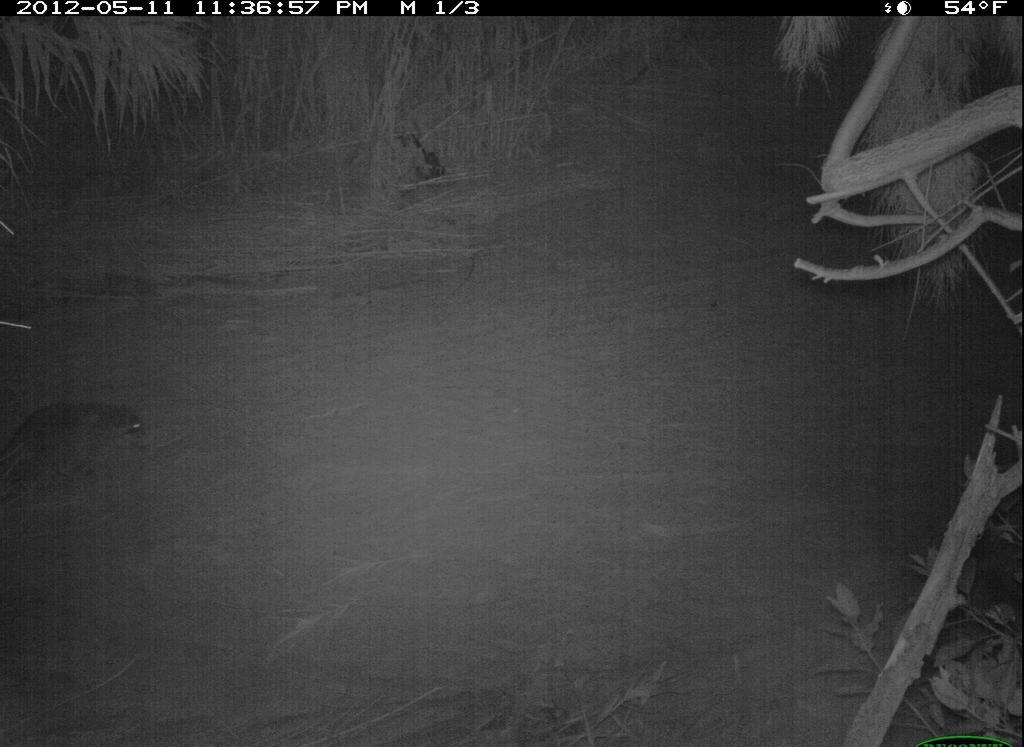raccoon: (15, 385, 158, 484)
